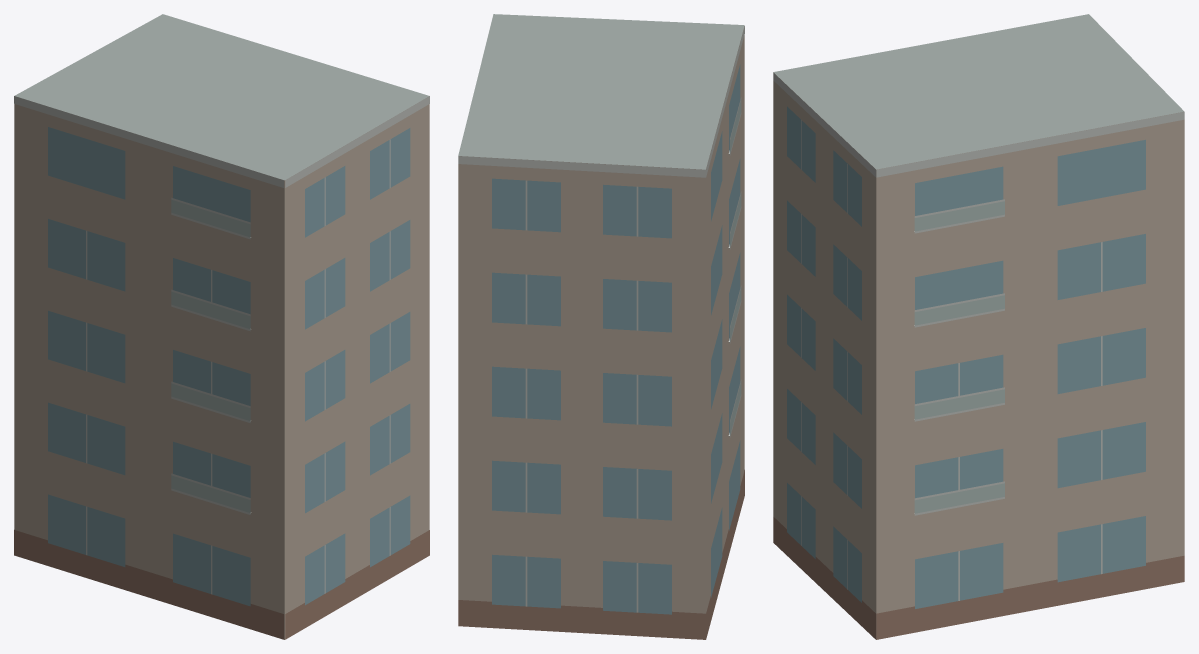
The model's file is survey-upis-32759767.glb.
3 views of the same model, side by side, from view 1: azimuth 30°, elevation 25°; view 2: azimuth 150°, elevation 25°; view 3: azimuth 270°, elevation 25° (orthographic). The views are drawn at different scales.
Visible parts, largest first — view 1: survey-upis-32759767.tmp; view 2: survey-upis-32759767.tmp; view 3: survey-upis-32759767.tmp.
Boxes of the visible parts, <box> form: survey-upis-32759767.tmp: <box>14,14,429,639</box>; survey-upis-32759767.tmp: <box>458,14,744,639</box>; survey-upis-32759767.tmp: <box>773,14,1184,639</box>.
Size of the model in its own units: 10.09 by 14.2 by 11.26.
